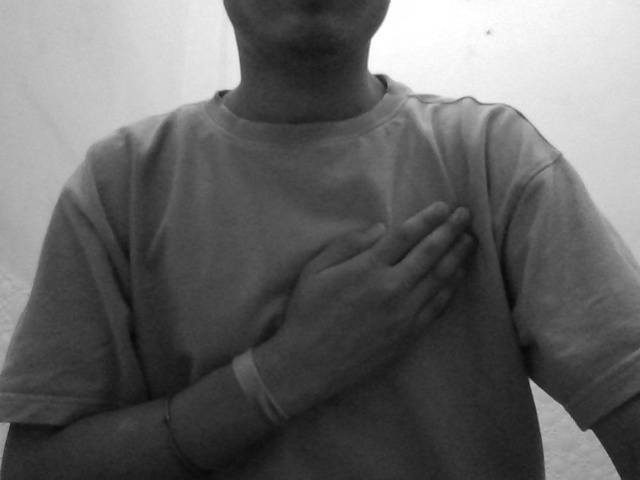Sorry: (267, 192, 523, 390)
